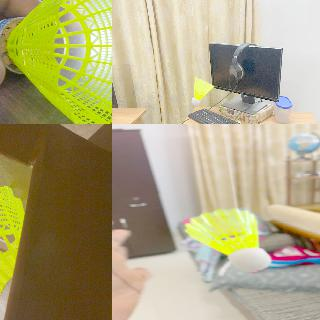shuttlecock: (0, 0, 111, 123), (184, 208, 271, 270), (0, 178, 24, 312), (191, 77, 213, 105)
